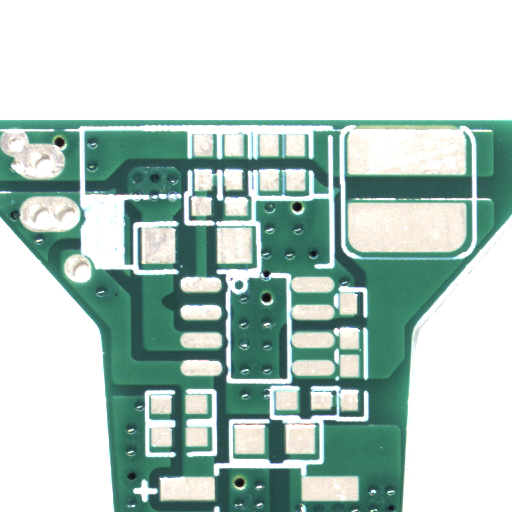Mouse_bite: (169, 301, 183, 320)
